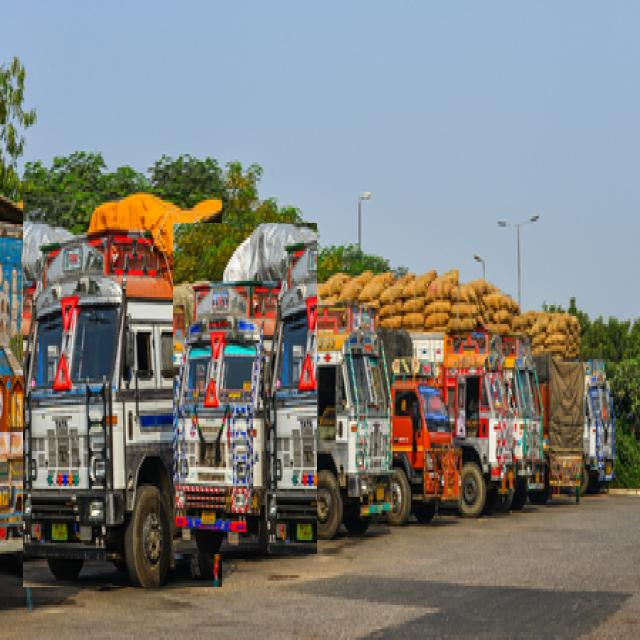truck: (23, 193, 221, 587), (173, 223, 316, 554), (295, 285, 392, 539), (388, 356, 461, 525)
